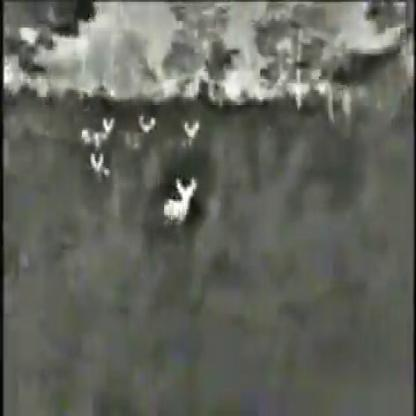rehkitze: (159, 178, 197, 224), (82, 117, 116, 144), (182, 122, 198, 146), (138, 113, 154, 135), (89, 154, 104, 176)
